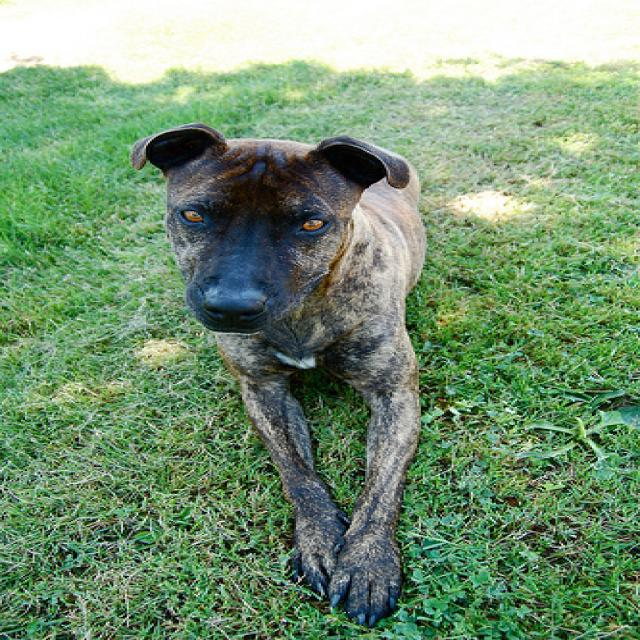dog: (128, 121, 406, 332)
